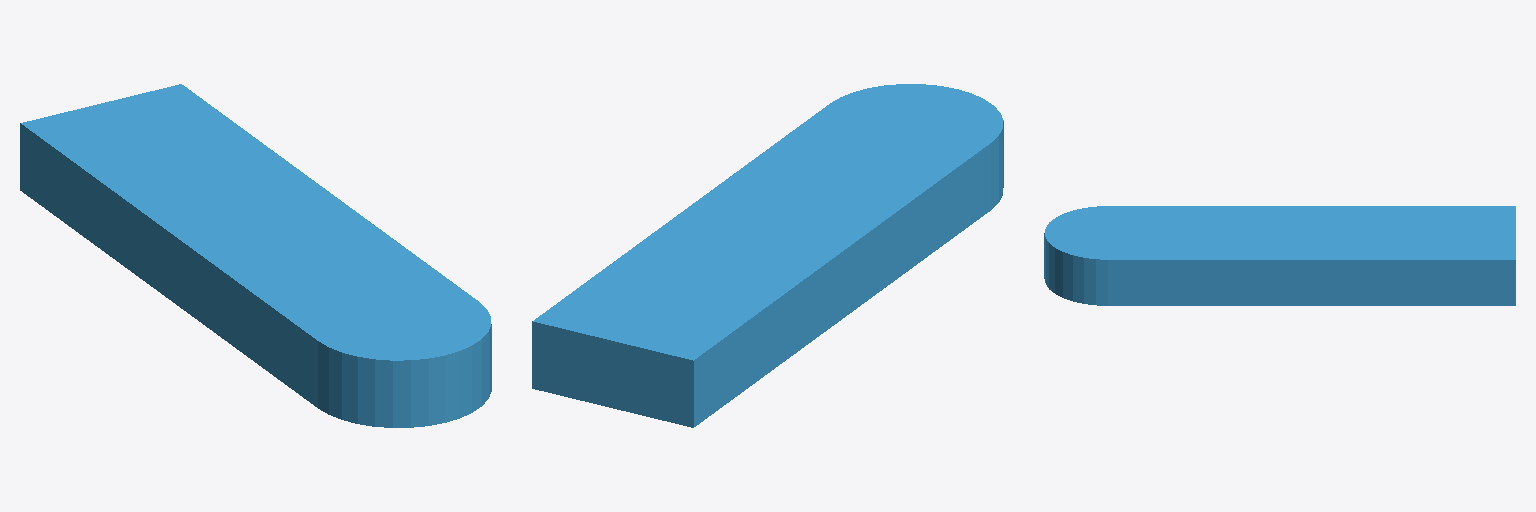
The robot description file, URDF, robot "template":
<?xml version="1.0"?>
<robot name="template">

    <!--World & Base -->	
    <link name="world">
    </link> 

    <!-- Joint & Link  --> 
    <joint name="joint" type="revolute">
        <origin xyz="0 0 0.0501" rpy="0 0 0"/> 
        <parent link="world"/>
        <child link="link"/>
        <limit effort="300" velocity="100" lower="-3.14" upper="3.14" />
        <axis xyz="0 0 1"/>
        <dynamics damping="0.02" friction="0.0" />
    </joint> 
    <link name="link">
        <inertial>
            <origin xyz="0 0 0" rpy="0 0 0"/>
            <mass value="1"/>
            <inertia ixx="0.001" iyy="0.001" izz="0.002" ixy="0" ixz="0" iyz="0"/>
        </inertial>
        <visual>
            <origin xyz="0 0.04 0" rpy="0 0 0"/>
            <geometry>
				<box size="0.025 0.08 0.01"/>
            </geometry>	
        </visual>
        <visual>
            <origin xyz="0 0 0" rpy="0 0 0"/>
            <geometry>
                <cylinder length="0.01" radius="0.0125"/>
            </geometry> 
        </visual>
    </link>

    <!-- Legend for the libqbmove_plugin.so custom plugin 
    
        # The operational modes are the following
        #   [0] = LinkTorque
        #   [1] = LinkPID
        #   [2] = SpingRefs
        #   [3] = SpringEqPres
        #   [4] = MotorTorques
        #   [5] = PIDRefs
        #   [6] = PIDEqPres

    -->
    <!-- Plugin insertion -->
    <gazebo>
        <plugin name="qbmove_vsa_j" filename="libqbmove_plugin.so">
            # REQUIRED tags
            <joint>joint</joint>
            <operation_mode>5</operation_mode>     # select the operational mode (see above)
            <pub_eltau>true</pub_eltau>            # enable elastic torques publishing
            <pub_state>true</pub_state>            # enable link state publishing
            <sub_ext_tau>true</sub_ext_tau> # enable subscription to external torques <namespace>qb_move</namespace> # Available
        OPTIONAL tags with default values are <!-- spring parameters -->
            <spring_a1>8.9992</spring_a1>
            <spring_k1>0.0019</spring_k1>
            <spring_a2>8.9992</spring_a2>
            <spring_k2>0.0019</spring_k2>
            <max_def>0.8</max_def>
            <!-- motors parameters -->
            <mot_1_J>0.0233</mot_1_J>               # motor inertia
            <mot_1_D>0.0019</mot_1_D>               # motor damping
            <mot_1_tauMax>6.0</mot_1_tauMax>        # maximum motor torque
            <mot_1_maxVel>6.0</mot_1_maxVel>        # maximum motor velocity
            <mot_1_minPos>-inf</mot_1_minPos>       # minimum motor position
            <mot_1_maxPos>inf</mot_1_maxPos>        # maximum motor position
            <mot_1_tauFric>0.5</mot_1_tauFric>      # static motor friction
            <!--  -->
            <mot_2_J>0.0233</mot_2_J>
            <mot_2_D>0.0019</mot_2_D>
            <mot_2_tauMax>6.0</mot_2_tauMax>
            <mot_2_maxVel>6.0</mot_2_maxVel>
            <mot_2_minPos>-inf</mot_2_minPos>
            <mot_2_maxPos>inf</mot_2_maxPos>
            <mot_2_tauFric>0.5</mot_2_tauFric>
            <!-- controllers parameters -->
            <ctrl_1_P>125</ctrl_1_P>                # proportional gain on motor
            <ctrl_1_I>0</ctrl_1_I>                  # integral gain on motor
            <ctrl_1_D>4.5</ctrl_1_D>                 # derivative gain on motor
            <!--  -->
            <ctrl_2_P>125</ctrl_2_P>                
            <ctrl_2_I>0</ctrl_2_I>
            <ctrl_2_D>4.5</ctrl_2_D>
        </plugin>
    </gazebo>

</robot>

--- Render facts (derived) ---
3 views of the same robot in one strip: view 1: azimuth 30°, elevation 25°; view 2: azimuth 150°, elevation 25°; view 3: azimuth 270°, elevation 25° (orthographic).
Robot: template — 2 links, 1 joints (1 revolute); root link world; default pose: all joints at 0.
Visible links, largest first — view 1: link; view 2: link; view 3: link.
Link boxes in pixels (box(x1,y1,x2,y2)): link: box(20, 84, 491, 427); link: box(532, 84, 1003, 427); link: box(1044, 206, 1515, 305).
Bounding box of the posed robot: 0.025 × 0.0925 × 0.01 m (x, y, z).
Geometry: primitives only (box / cylinder / sphere), no mesh files.